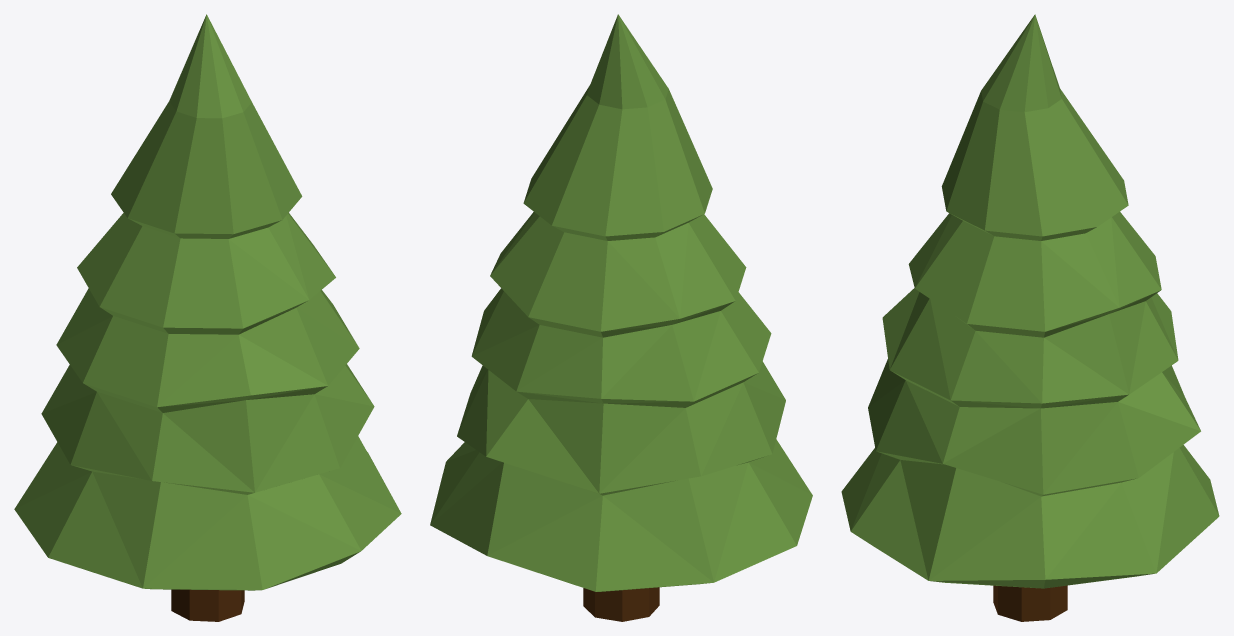
Rendered from Christmas tree.fbx.
3 renders of one model, left to right at view 1: azimuth 30°, elevation 25°; view 2: azimuth 150°, elevation 25°; view 3: azimuth 270°, elevation 25°, orthographic.
Parts seen in each view (by area): view 1: Цилиндр.034; view 2: Цилиндр.034; view 3: Цилиндр.034.
Part boxes in pixels (x1,y1,x2,y2): Цилиндр.034: (14, 14, 401, 621); Цилиндр.034: (430, 14, 812, 621); Цилиндр.034: (841, 14, 1219, 621).
Size of the model in its own units: 496 by 837 by 484.
